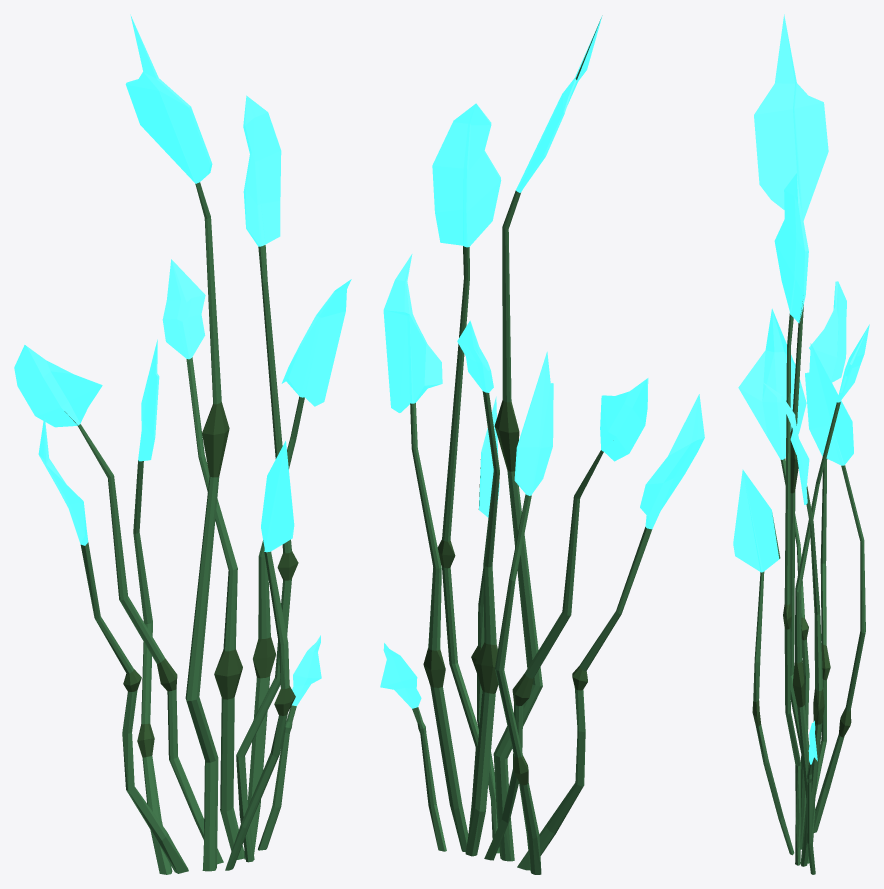
File: SM_Flora_01.glb
3 renders of one model, left to right at view 1: azimuth 30°, elevation 25°; view 2: azimuth 150°, elevation 25°; view 3: azimuth 270°, elevation 25°, orthographic. The views are drawn at different scales.
Visible parts, largest first — view 1: SM_Flora_01; view 2: SM_Flora_01; view 3: SM_Flora_01.
Part boxes in pixels (x1,y1,x2,y2): SM_Flora_01: (14,14,351,874); SM_Flora_01: (380,15,704,874); SM_Flora_01: (733,14,869,874).
Bounding box in the file's own units: 1.01 × 2.71 × 0.4233.
2 materials, 1 textured.
